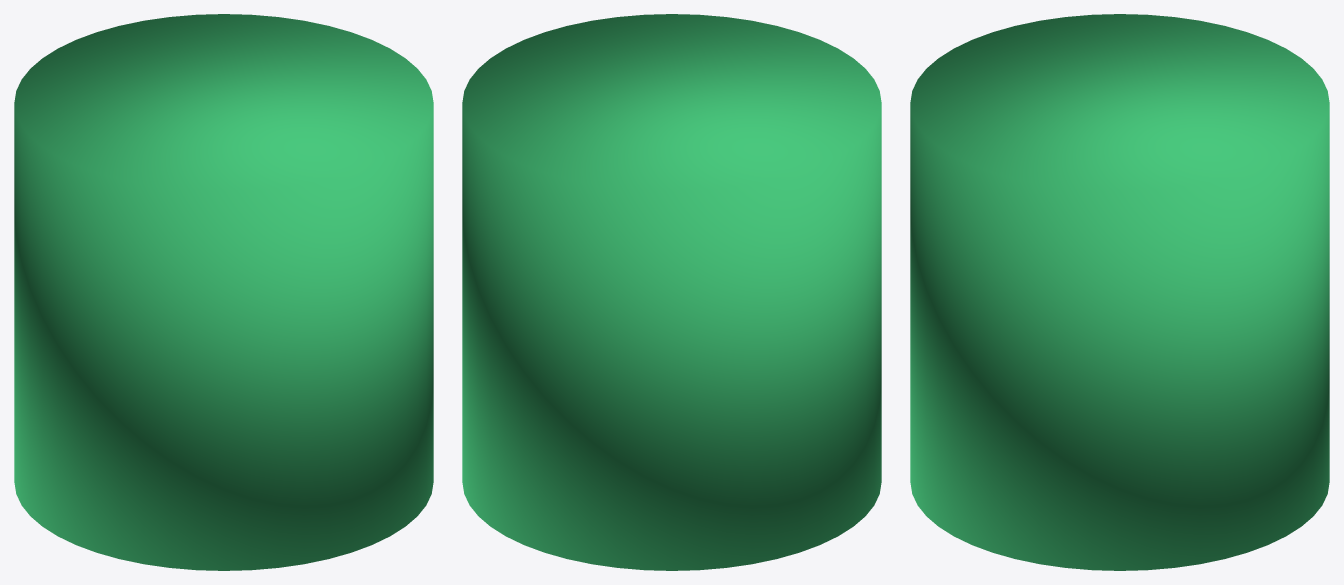
Rendered from SM_TargetPad.fbx.
The picture shows the model from 3 angles, left to right: view 1: azimuth 30°, elevation 25°; view 2: azimuth 150°, elevation 25°; view 3: azimuth 270°, elevation 25°; orthographic projection.
Parts seen in each view (by area): view 1: SM_TargetPad; view 2: SM_TargetPad; view 3: SM_TargetPad.
Boxes of the visible parts, x1=… form: SM_TargetPad: x1=14, y1=14, x2=433, y2=570; SM_TargetPad: x1=462, y1=14, x2=881, y2=570; SM_TargetPad: x1=910, y1=14, x2=1329, y2=570.
Bounding box in the file's own units: 1 × 1 × 1.
